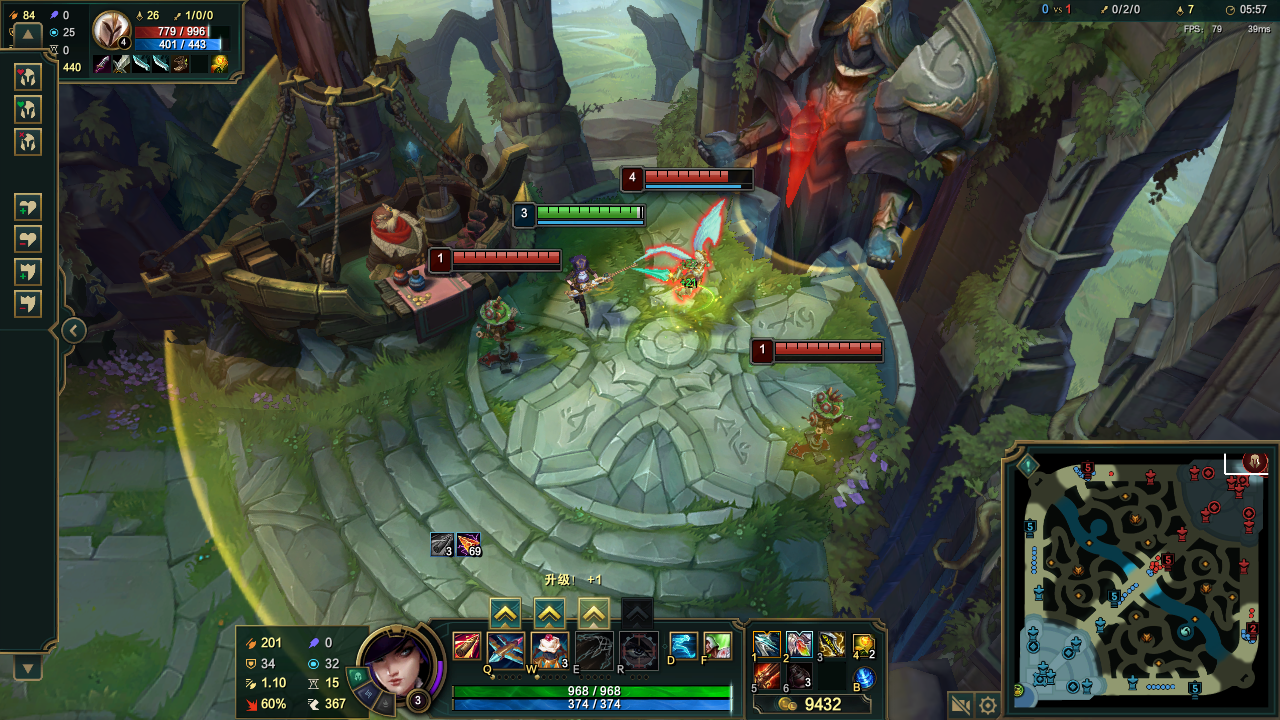DFYX: (644, 169, 752, 180), (778, 341, 883, 352), (453, 252, 559, 262)
